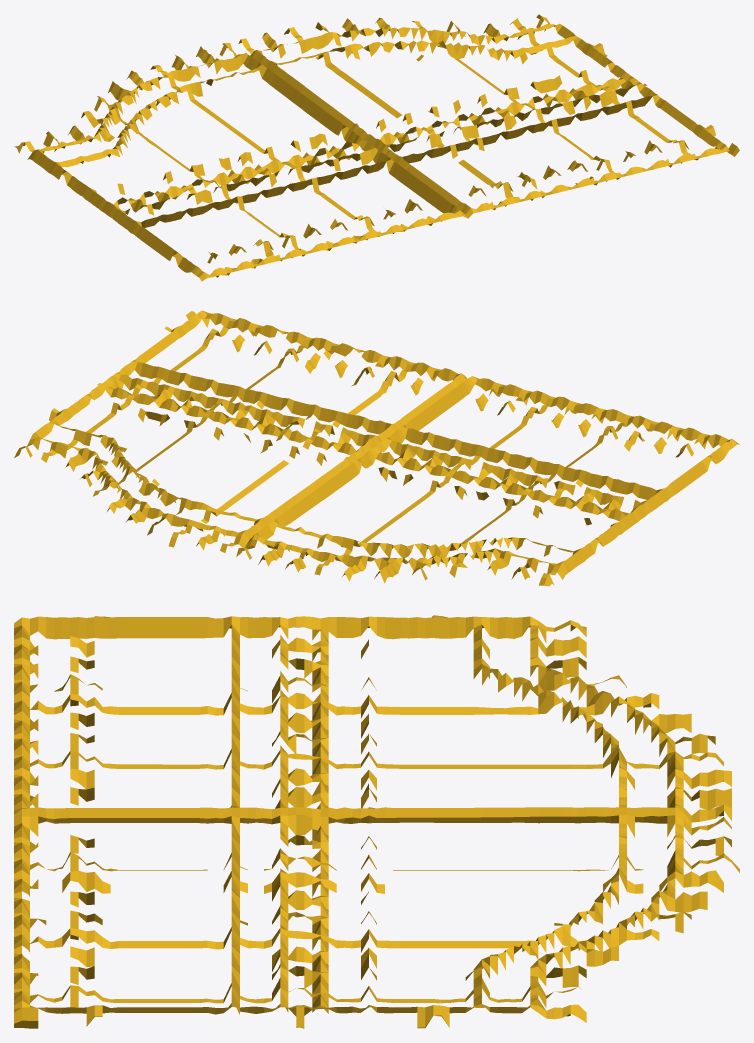
Rendered from Gate1.glb.
3 views of the same model, one above another, from view 1: azimuth 30°, elevation 25°; view 2: azimuth 150°, elevation 25°; view 3: azimuth 270°, elevation 25° (orthographic). The views are drawn at different scales.
Parts seen in each view (by area): view 1: Plane; view 2: Plane; view 3: Plane.
Part boxes in pixels (x1,y1,x2,y2): Plane: [14, 14, 739, 281]; Plane: [14, 310, 739, 586]; Plane: [14, 615, 739, 1028].
Bounding box in the file's own units: 1.63 × 0.0379 × 1.25.
